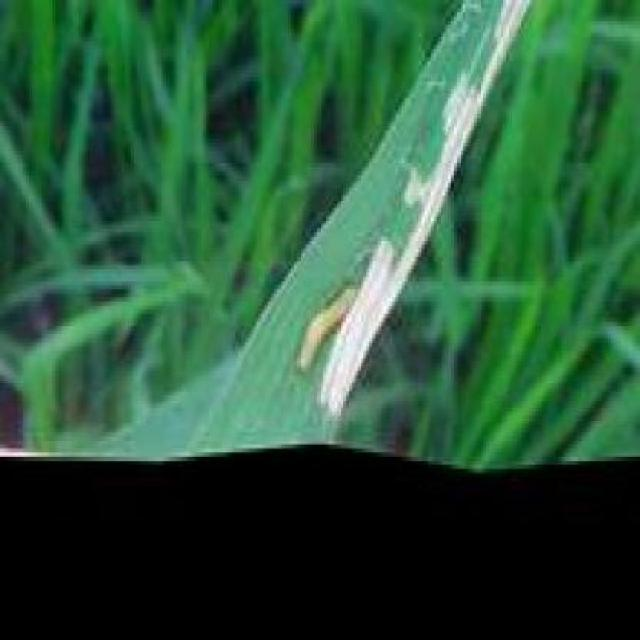leaf-folder: (293, 269, 378, 362)
